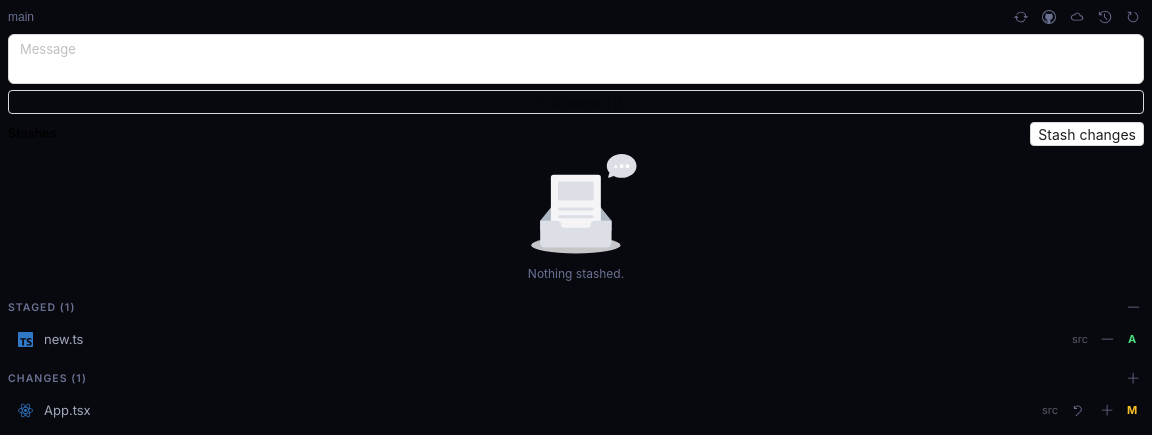
Test: SourceControlPanel branches › shows the new branch as current afterwards
Expected: the text "App.tsx" is shown, [44,402,91,418]
Click the button with aria-label "Switch branch". click: (21, 17)
box: [8,6,1004,28]
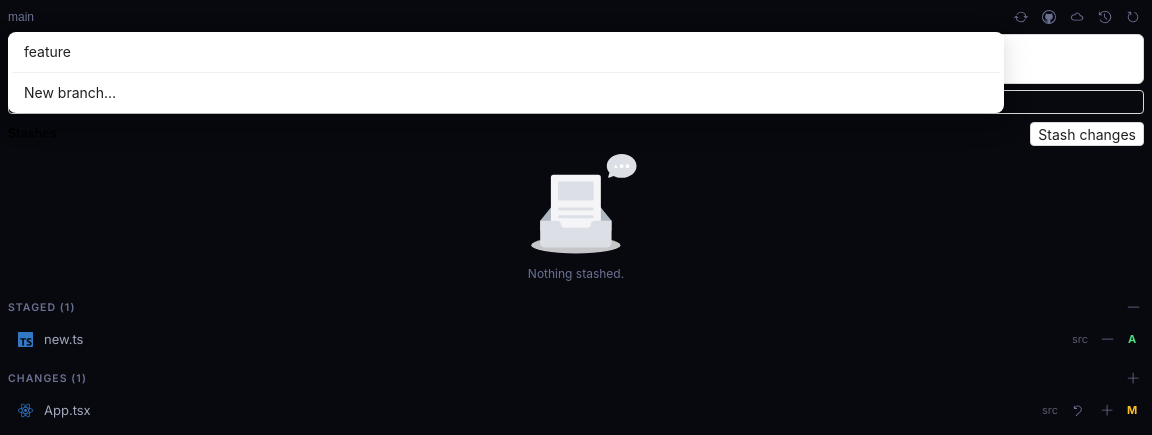
Click the menu item "feature". click: (48, 52)
box: [24,43,71,60]
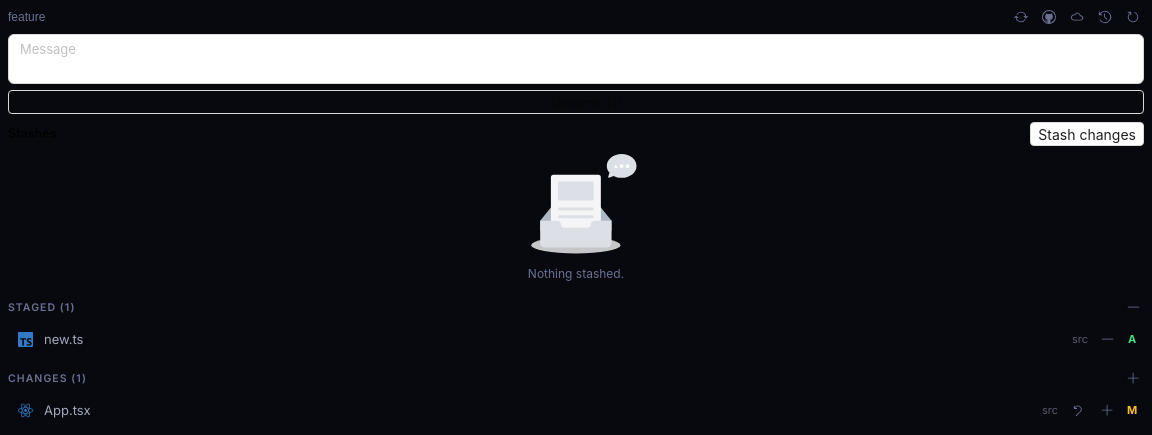
Expected: the button with aria-label "Switch branch" reads "feature", [8,6,1004,28]
